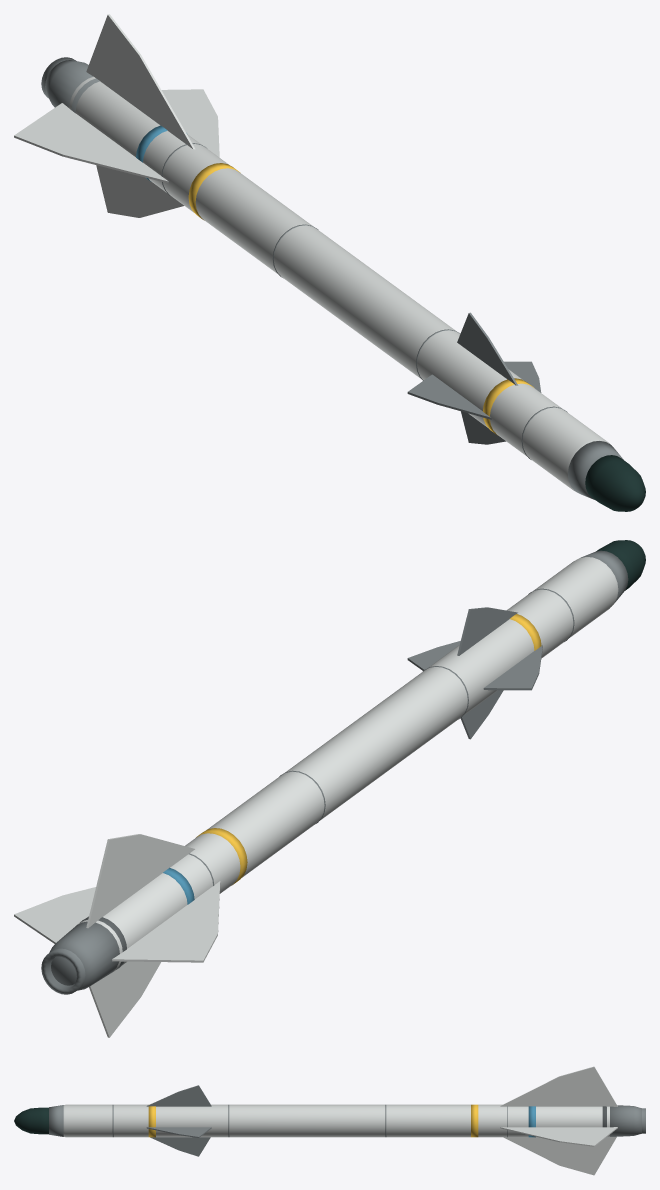
File: FT_IR_Missile_LOD1.glb
3 renders of one model, top to bottom at view 1: azimuth 30°, elevation 25°; view 2: azimuth 150°, elevation 25°; view 3: azimuth 270°, elevation 25°, orthographic. The views are drawn at different scales.
Parts seen in each view (by area): view 1: FT_IR_Missile_LOD1; view 2: FT_IR_Missile_LOD1; view 3: FT_IR_Missile_LOD1.
Boxes of the visible parts, x1,y1,x2,y2 form: FT_IR_Missile_LOD1: (14,14,645,511); FT_IR_Missile_LOD1: (14,540,645,1037); FT_IR_Missile_LOD1: (14,1066,645,1175).
Size of the model in its own units: 0.58 by 0.58 by 3.06.
